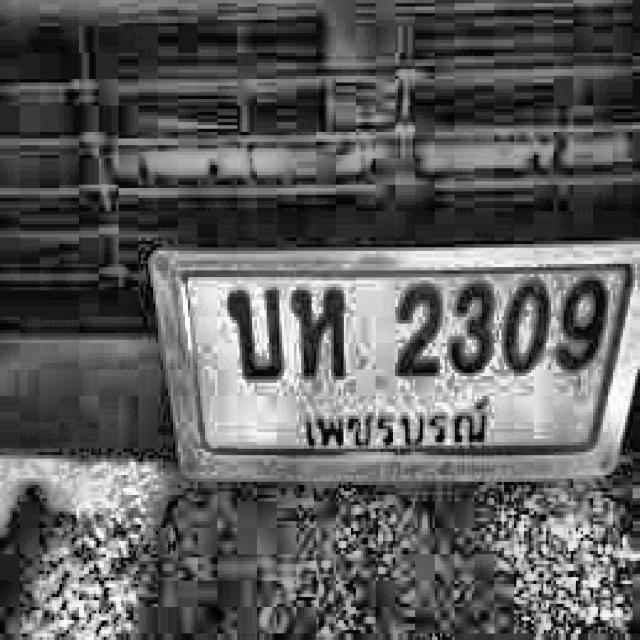license-plate: (151, 240, 640, 482)
